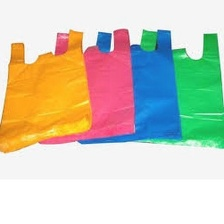plastic_bag: (72, 22, 186, 150), (0, 23, 95, 158), (35, 23, 138, 147), (131, 27, 224, 151)
